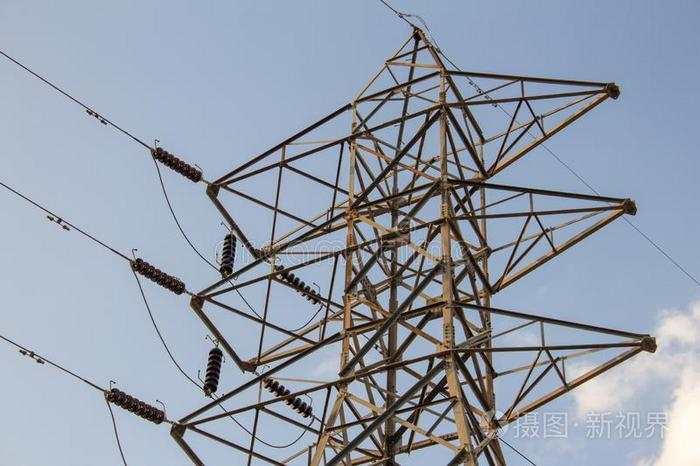insulator: (108, 387, 165, 424), (149, 146, 203, 183), (133, 257, 187, 293), (264, 377, 313, 416), (275, 268, 321, 304), (202, 348, 222, 394), (218, 235, 239, 275)
